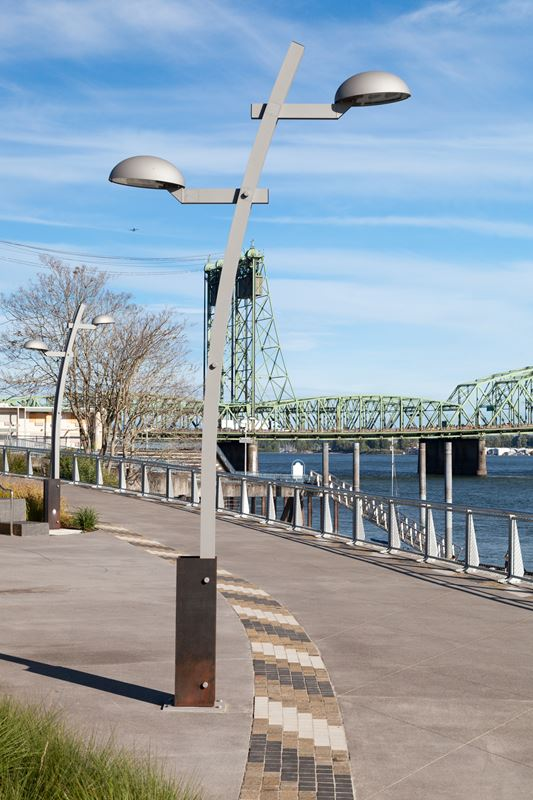light_pole: (175, 85, 284, 726)
